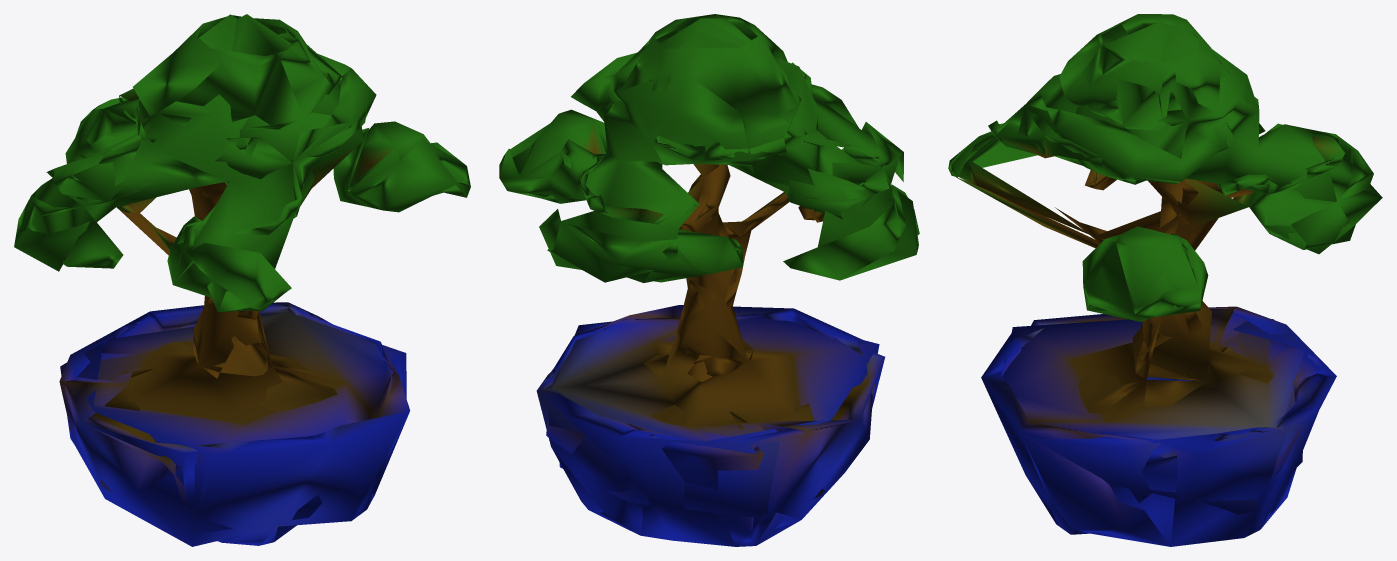
The model's file is gen3d-bonsai-tree-lod1.glb.
3 renders of one model, left to right at view 1: azimuth 30°, elevation 25°; view 2: azimuth 150°, elevation 25°; view 3: azimuth 270°, elevation 25°, orthographic. The views are drawn at different scales.
Visible parts, largest first — view 1: part_0; view 2: part_0; view 3: part_0.
Part boxes in pixels (box(x1,y1,x2,y2)): part_0: box(14, 14, 470, 546); part_0: box(499, 14, 919, 546); part_0: box(948, 14, 1382, 546).
Bounding box in the file's own units: 0.9377 × 1 × 0.82.
